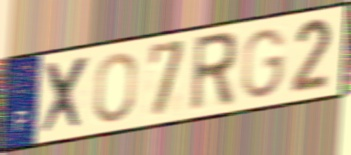2: (289, 15, 335, 98)
7: (147, 39, 187, 121)
G: (241, 26, 289, 101)
O: (92, 50, 139, 126)
R: (187, 29, 239, 116)
X: (39, 53, 92, 139)
